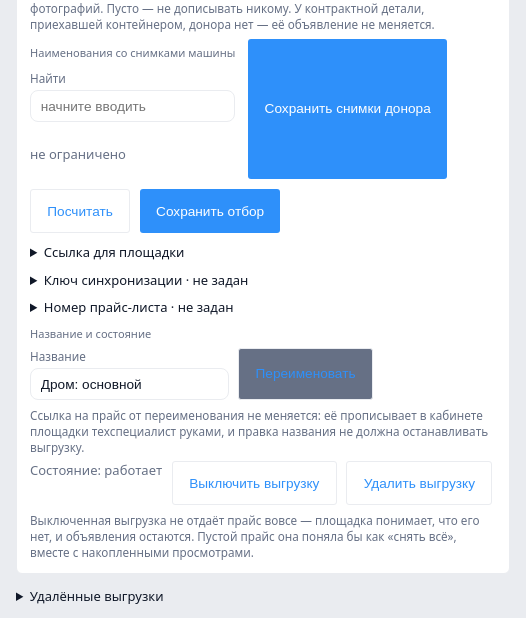
Test: выключение и удаление выгрузки › удалённые видны отдельно и помнят, когда у них забирали прайс
The width and height of the screenshot is (526, 618).
(page scrolled)
Click the heading "Удалённые выгрузки".
click(97, 596)  # box [30,587,164,605]
(page scrolled)
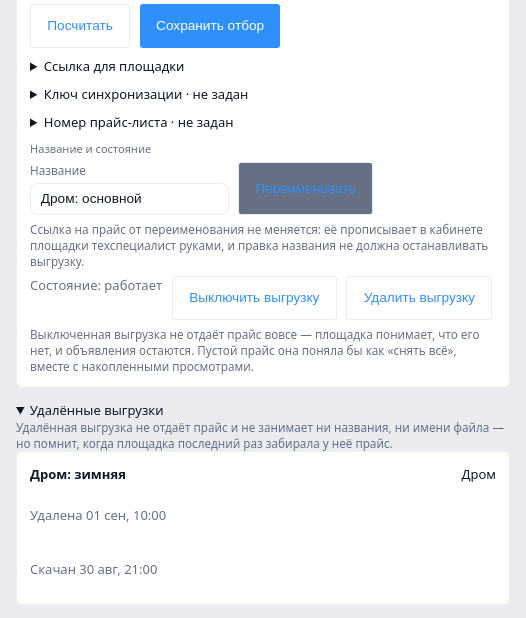
Expected: the text "Дром: зимняя" is shown, [30,465,126,483]
Expected: the text "Удалена 01 сен, 10:00" is shown, [30,506,166,524]
Expected: the text "Скачан 30 авг, 21:00" is shown, [30,560,157,578]
